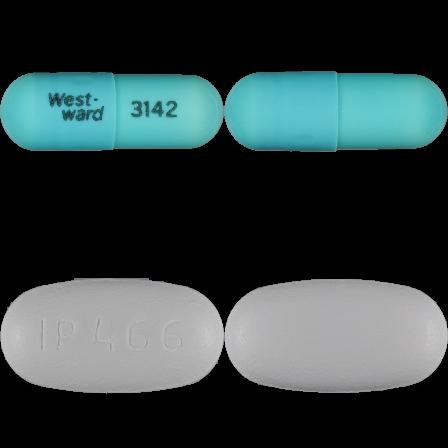43063-604: (0, 0, 224, 224)
